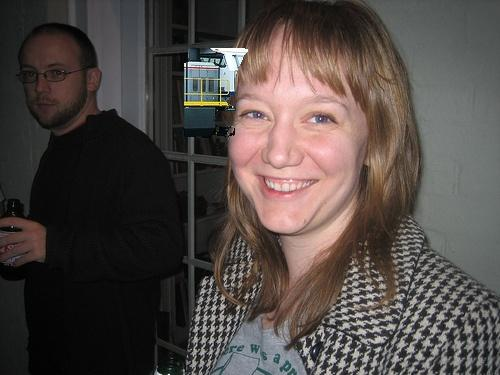tampered: (185, 48, 248, 138)
